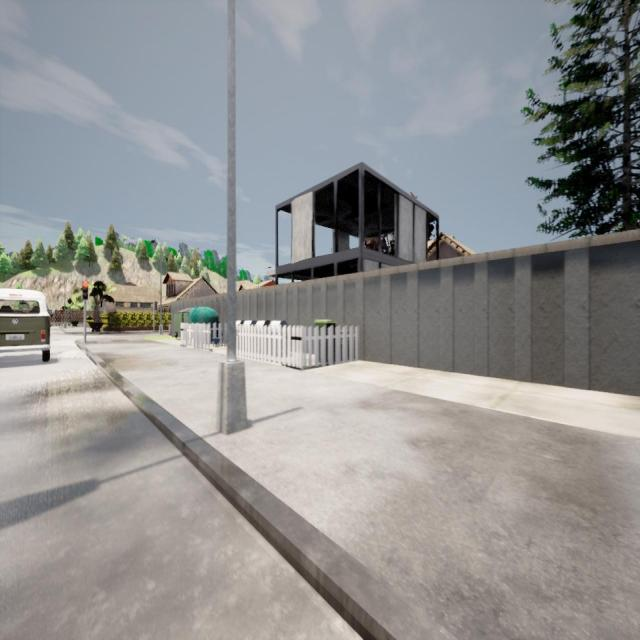Vehicle: (0, 288, 50, 361)
traffic_light: (82, 281, 88, 300), (155, 301, 157, 310)
